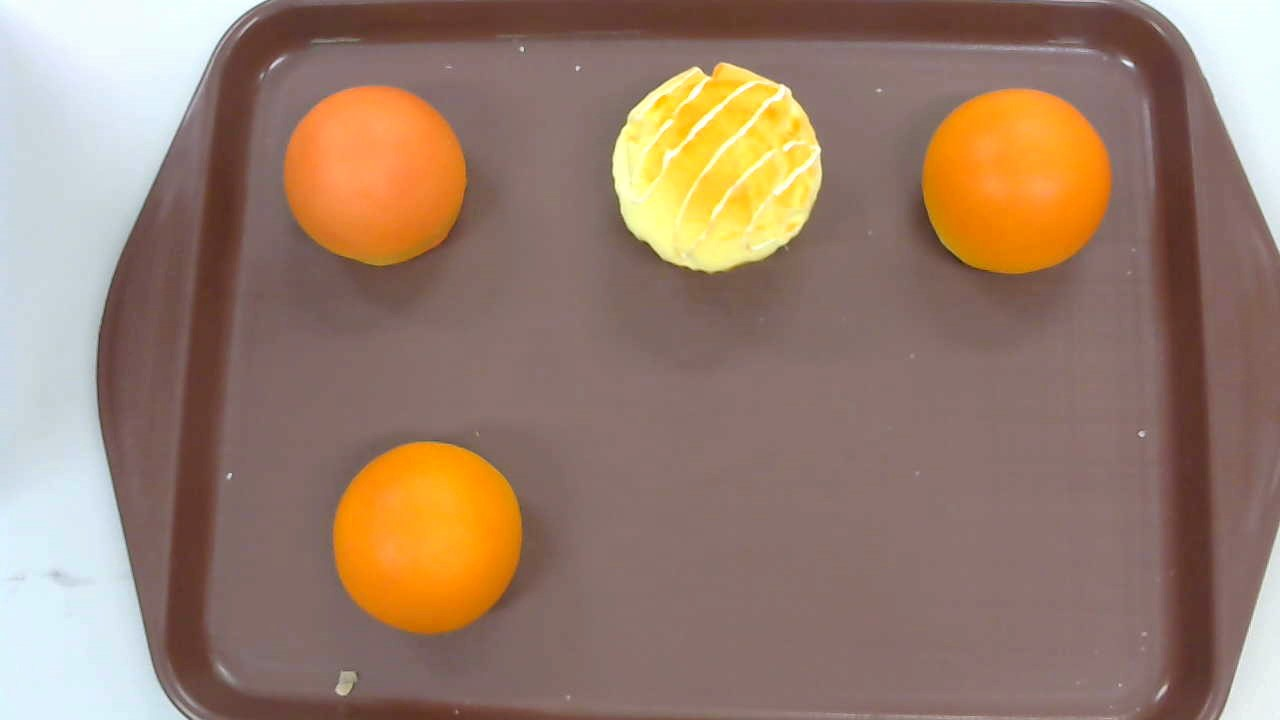bun: (332, 442, 523, 636), (922, 87, 1112, 273), (284, 85, 466, 266)
cupcake: (612, 59, 823, 277)
